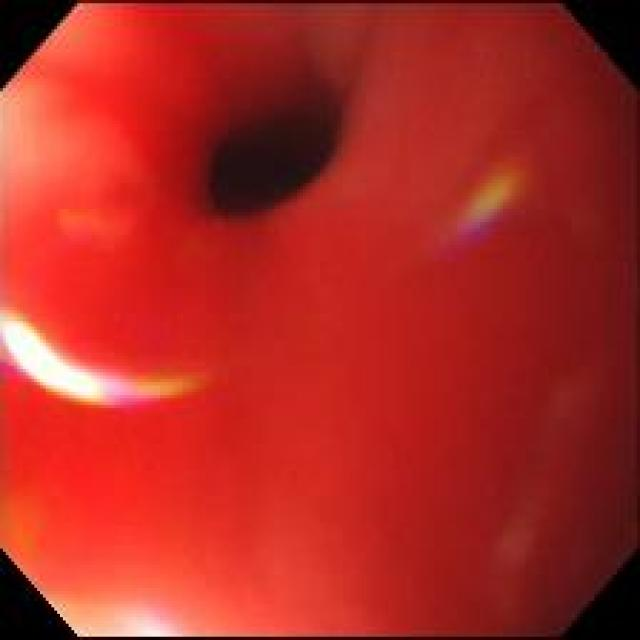blur: (2, 5, 638, 635)
color misalignment: (96, 357, 212, 416), (460, 171, 519, 234), (2, 352, 25, 380)
contrast: (187, 64, 364, 222)
specularity: (2, 311, 98, 405)
